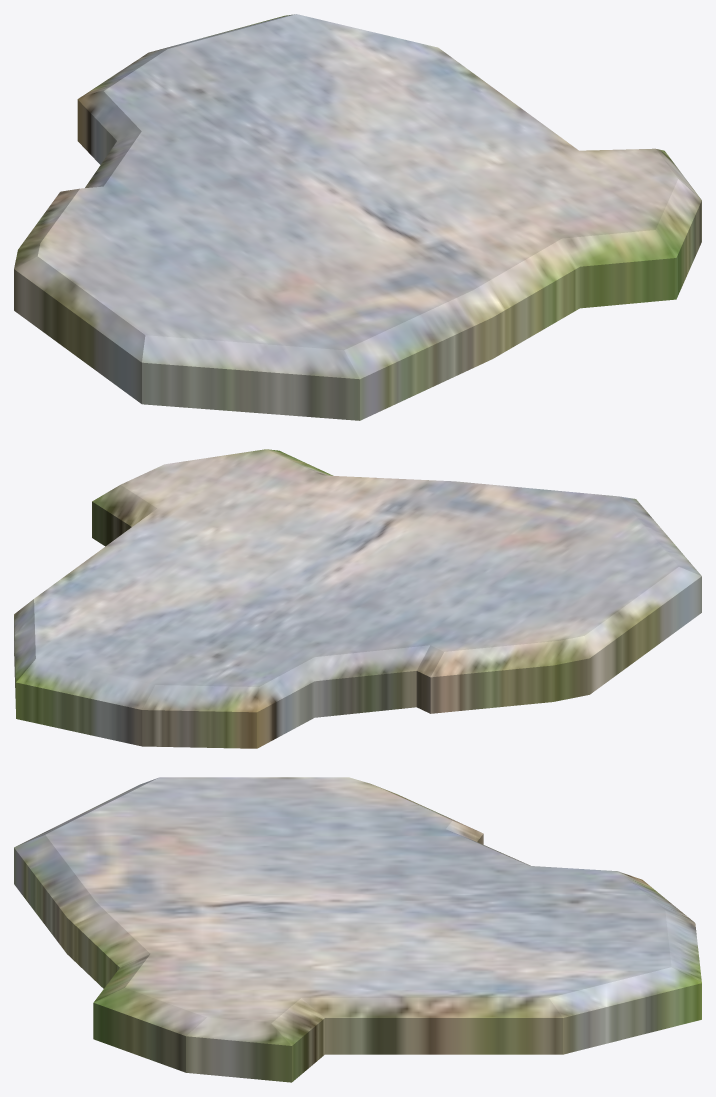
The model's file is stone.03.fbx.
3 renders of one model, top to bottom at view 1: azimuth 30°, elevation 25°; view 2: azimuth 150°, elevation 25°; view 3: azimuth 270°, elevation 25°, orthographic. The views are drawn at different scales.
Visible parts, largest first — view 1: stone.03; view 2: stone.03; view 3: stone.03.
Part boxes in pixels (x1,y1,x2,y2): stone.03: (14, 14, 701, 420); stone.03: (14, 449, 701, 748); stone.03: (14, 777, 701, 1082).
Size of the model in its own units: 109 by 9.74 by 121.
Materials: 1 (1 with a texture image).
